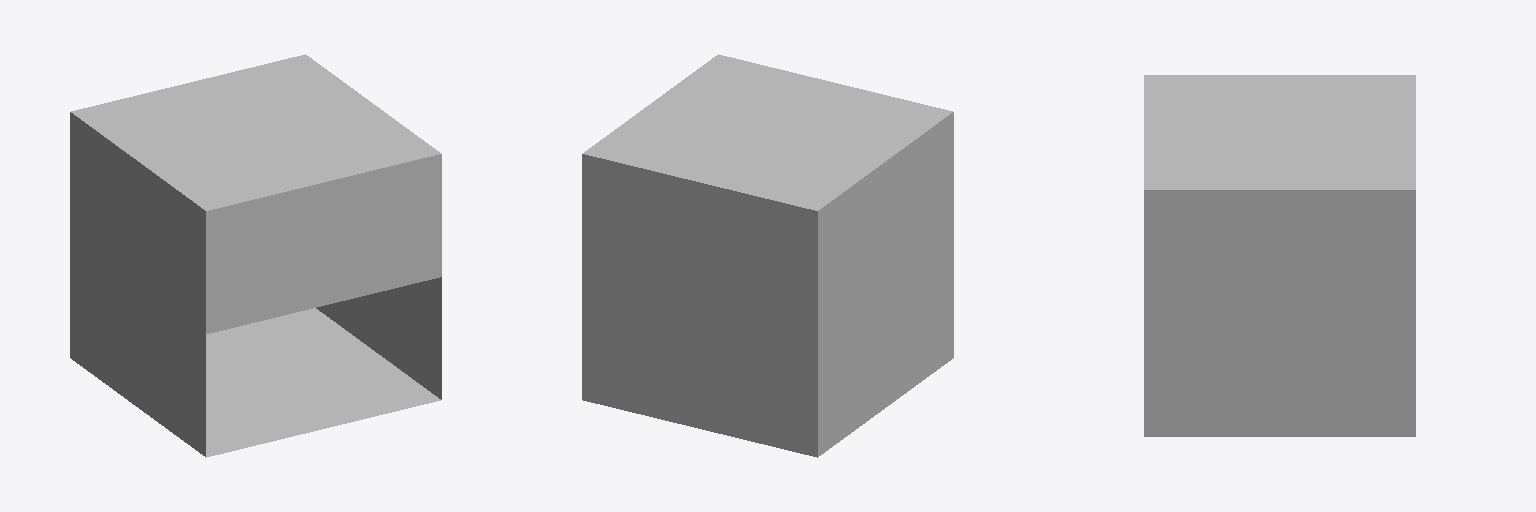
Rendered from cornell_large.obj.
3 views of the same model, side by side, from view 1: azimuth 30°, elevation 25°; view 2: azimuth 150°, elevation 25°; view 3: azimuth 270°, elevation 25° (orthographic).
Visible parts, largest first — view 1: Cube.001_Cube.002; view 2: Cube.001_Cube.002; view 3: Cube.001_Cube.002.
Boxes of the visible parts, <box> form: Cube.001_Cube.002: <box>70,54,441,457</box>; Cube.001_Cube.002: <box>582,54,953,457</box>; Cube.001_Cube.002: <box>1144,75,1415,436</box>.
Bounding box in the file's own units: 11.65 × 11.65 × 11.65.